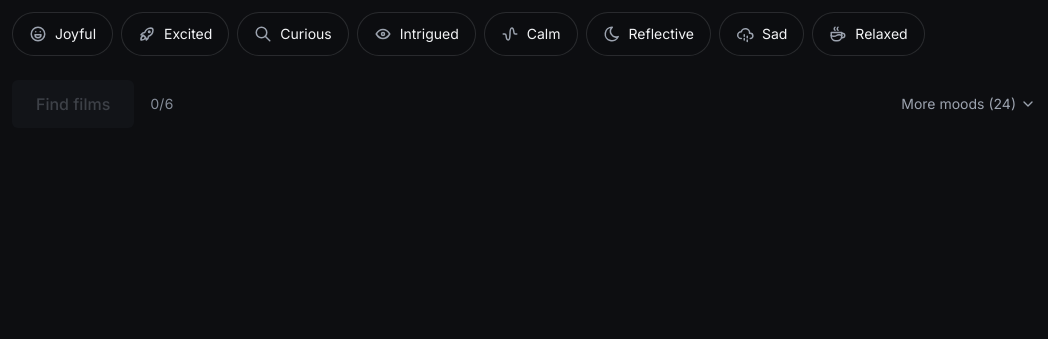
Test: MoodBar › reveals every mood and a filter under "More moods"
Expected: the button "Angry" is not shown
Click the button "More moods (24)".
click(969, 104)  # box [901, 94, 1036, 114]
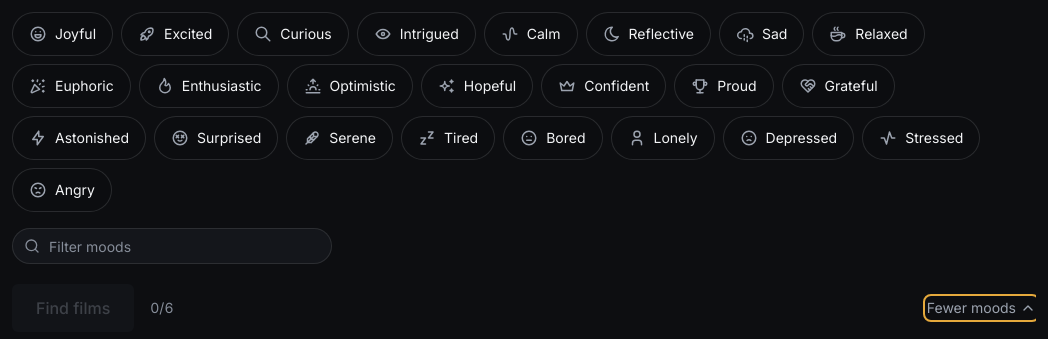
Type "ang" into the search field labelled "Filter moods".
click(172, 246); type("ang")  # box [12, 228, 332, 264]
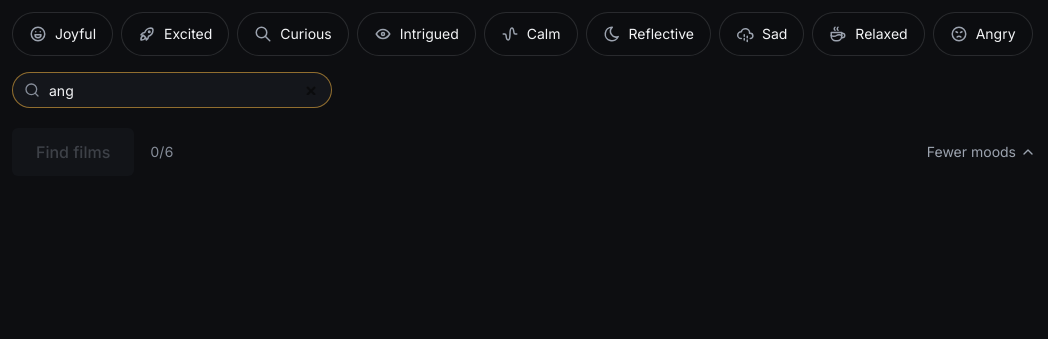
Expected: the button "Angry" is shown, [933, 12, 1032, 56]
Expected: the button "Tired" is gone
